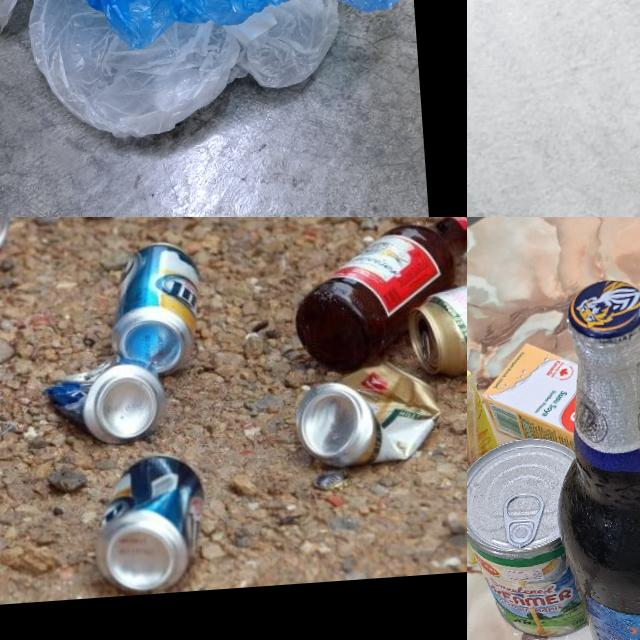aba de lata: (501, 492, 545, 550)
caixinha: (478, 337, 576, 445), (467, 348, 506, 561)
garrafa de vidro: (543, 273, 640, 640)
lata: (467, 435, 589, 640), (41, 352, 169, 450)
sacola plástica: (21, 0, 351, 147), (0, 0, 415, 60)
